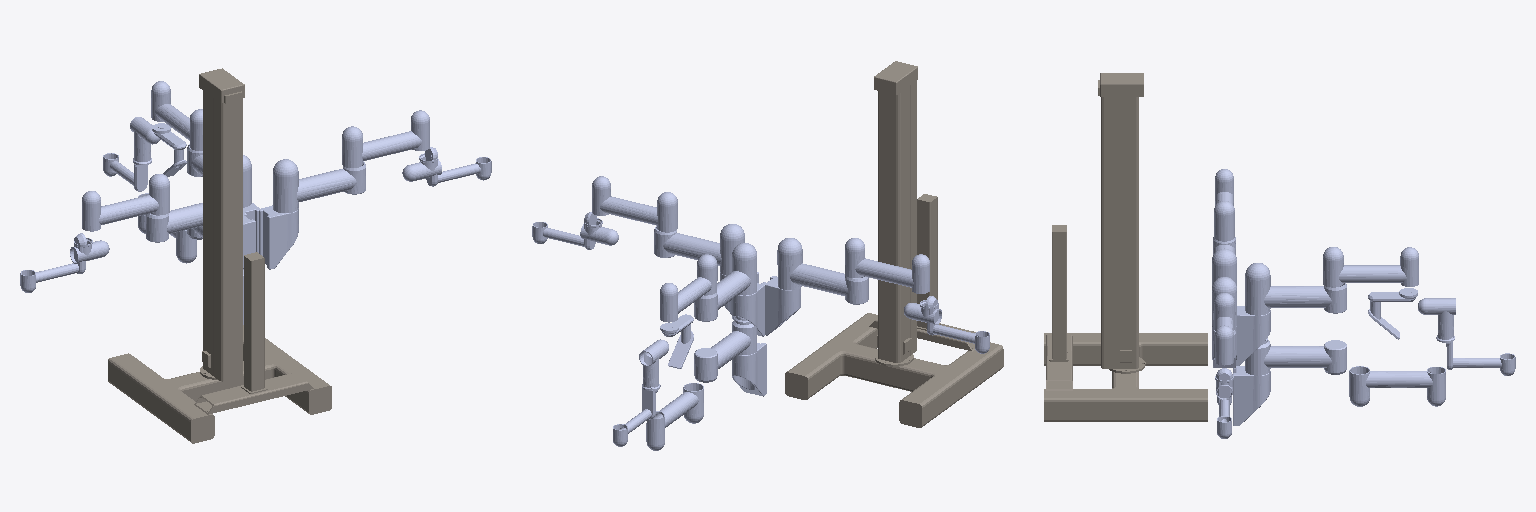
--- Facts derived from the render (not from the file) ---
The picture shows the robot from 3 angles, left to right: view 1: azimuth 30°, elevation 25°; view 2: azimuth 150°, elevation 25°; view 3: azimuth 270°, elevation 25°; orthographic projection.
Model Cart with 20 links and 19 joints (15 continuous, 4 prismatic), rooted at base_link, posed every joint at zero.
Links seen in each view (by area): view 1: base_link, C_A1_L1, C_A4_L2, C_A1_L2, C_A1_L0, C_A2_L2, C_A4_L1, C_A4_L4, C_A1_L4, C_A3_L3, C_A3_L4, C_A2_L1 (+4 smaller); view 2: base_link, C_A4_L1, C_A1_L2, C_A4_L2, C_A1_L1, C_A2_L1, C_A3_L1, C_A2_L2, C_A3_L2, C_A3_L0, C_A4_L0, C_A2_L0 (+7 smaller); view 3: base_link, C_A2_L1, C_A3_L1, C_A2_L2, C_A3_L2, C_A3_L0, C_A1_L2, C_A4_L2, C_A2_L0, C_A3_L3, C_A3_L4, C_A4_L1 (+3 smaller).
Boxes of the visible links, x1,y1,x2,y2 form: base_link: (108, 68, 331, 443); C_A1_L1: (273, 159, 365, 212); C_A4_L2: (82, 174, 169, 231); C_A1_L2: (342, 110, 429, 167); C_A1_L0: (259, 205, 298, 269); C_A2_L2: (151, 81, 202, 150); C_A4_L1: (146, 203, 202, 242); C_A4_L4: (20, 233, 86, 292); C_A1_L4: (425, 147, 491, 186); C_A3_L3: (130, 117, 160, 164); C_A3_L4: (103, 153, 147, 191); C_A2_L1: (187, 144, 251, 207); base_link: (785, 61, 1003, 427); C_A4_L1: (777, 238, 868, 304); C_A1_L2: (592, 176, 677, 232); C_A4_L2: (845, 238, 929, 293); C_A1_L1: (654, 224, 744, 275); C_A2_L1: (694, 243, 756, 321); C_A3_L1: (694, 316, 756, 382); C_A2_L2: (660, 254, 717, 322); C_A3_L2: (646, 383, 703, 450); C_A3_L0: (732, 343, 766, 396); C_A4_L0: (762, 276, 800, 335); C_A2_L0: (732, 283, 764, 336); base_link: (1044, 73, 1207, 421); C_A2_L1: (1245, 263, 1346, 315); C_A3_L1: (1245, 338, 1346, 375); C_A2_L2: (1323, 247, 1418, 287); C_A3_L2: (1349, 366, 1445, 406); C_A3_L0: (1233, 366, 1270, 425); C_A1_L2: (1214, 293, 1234, 365); C_A4_L2: (1214, 169, 1234, 241); C_A2_L0: (1236, 306, 1270, 365); C_A3_L3: (1418, 298, 1455, 342); C_A3_L4: (1446, 337, 1515, 375); C_A4_L1: (1212, 237, 1236, 285).
Bounding box of the posed robot: 3.03 × 2.7 × 1.97 m (x, y, z).
20 mesh visuals loaded from 20 distinct referenced files (20 binary STL).

URDF robot description (Cart):
<robot
  name="Cart">
  <link
    name="base_link">
    <inertial>
      <origin
        xyz="3.41426483252416E-07 -0.253032953037324 0.552457766148795"
        rpy="0 0 0" />
      <mass
        value="251.331338880703" />
      <inertia
        ixx="116.092010218379"
        ixy="-5.29791887809032E-06"
        ixz="3.94601866077709E-05"
        iyy="116.786187825287"
        iyz="-2.79449977491915"
        izz="20.7204503058012" />
    </inertial>
    <visual>
      <origin
        xyz="0 0 0"
        rpy="0 0 0" />
      <geometry>
        <mesh
          filename="package://Cart/meshes/base_link.stl" />
      </geometry>
      <material
        name="">
        <color
          rgba="0.647058823529412 0.619607843137255 0.588235294117647 1" />
      </material>
    </visual>
    <collision>
      <origin
        xyz="0 0 0"
        rpy="0 0 0" />
      <geometry>
        <mesh
          filename="package://Cart/meshes/base_link.stl" />
      </geometry>
    </collision>
  </link>
  <link
    name="C_A1_L0">
    <inertial>
      <origin
        xyz="0.0568399826690053 4.20186586191917E-07 0.148466700879736"
        rpy="0 0 0" />
      <mass
        value="8.19045158700103" />
      <inertia
        ixx="0.0849399138017183"
        ixy="-2.6241532757594E-07"
        ixz="-0.00950408519583723"
        iyy="0.0840388037894648"
        iyz="-7.34496732080392E-07"
        izz="0.0337578517914833" />
    </inertial>
    <visual>
      <origin
        xyz="0 0 0"
        rpy="0 0 0" />
      <geometry>
        <mesh
          filename="package://Cart/meshes/C_A1_L0.stl" />
      </geometry>
      <material
        name="">
        <color
          rgba="0.792156862745098 0.819607843137255 0.933333333333333 1" />
      </material>
    </visual>
    <collision>
      <origin
        xyz="0 0 0"
        rpy="0 0 0" />
      <geometry>
        <mesh
          filename="package://Cart/meshes/C_A1_L0.stl" />
      </geometry>
    </collision>
  </link>
  <joint
    name="C_A1_L0"
    type="prismatic">
    <origin
      xyz="0.1912 -0.191199999999999 0.761099999999999"
      rpy="-3.14159265358979 0 3.14159265358979" />
    <parent
      link="base_link" />
    <child
      link="C_A1_L0" />
    <axis
      xyz="0 0 -1" />
    <limit
      lower="0"
      upper="1.2223"
      effort="50"
      velocity="50" />
  </joint>
  <link
    name="C_A1_L1">
    <inertial>
      <origin
        xyz="-2.39046560346345E-06 0.181423473764042 -0.108873680906329"
        rpy="0 0 0" />
      <mass
        value="4.285154468433" />
      <inertia
        ixx="0.165298975805321"
        ixy="8.05521101705082E-07"
        ixz="1.12357011273003E-07"
        iyy="0.0318879130435778"
        iyz="-0.0216382058279061"
        izz="0.151812373014208" />
    </inertial>
    <visual>
      <origin
        xyz="0 0 0"
        rpy="0 0 0" />
      <geometry>
        <mesh
          filename="package://Cart/meshes/C_A1_L1.stl" />
      </geometry>
      <material
        name="">
        <color
          rgba="0.792156862745098 0.819607843137255 0.933333333333333 1" />
      </material>
    </visual>
    <collision>
      <origin
        xyz="0 0 0"
        rpy="0 0 0" />
      <geometry>
        <mesh
          filename="package://Cart/meshes/C_A1_L1.stl" />
      </geometry>
    </collision>
  </link>
  <joint
    name="C_A1_L1"
    type="continuous">
    <origin
      xyz="0 0 0"
      rpy="0 0 1.5707963267949" />
    <parent
      link="C_A1_L0" />
    <child
      link="C_A1_L1" />
    <axis
      xyz="0 0 -1" />
  </joint>
  <link
    name="C_A1_L2">
    <inertial>
      <origin
        xyz="0.208919873467034 -5.98681643881882E-06 0.0907666144838899"
        rpy="0 0 0" />
      <mass
        value="3.37391295638727" />
      <inertia
        ixx="0.0170495937307872"
        ixy="1.14494065864692E-06"
        ixz="0.0010255647636027"
        iyy="0.12264804166409"
        iyz="-5.47956889127492E-07"
        izz="0.114779656818464" />
    </inertial>
    <visual>
      <origin
        xyz="0 0 0"
        rpy="0 0 0" />
      <geometry>
        <mesh
          filename="package://Cart/meshes/C_A1_L2.stl" />
      </geometry>
      <material
        name="">
        <color
          rgba="0.792156862745098 0.819607843137255 0.933333333333333 1" />
      </material>
    </visual>
    <collision>
      <origin
        xyz="0 0 0"
        rpy="0 0 0" />
      <geometry>
        <mesh
          filename="package://Cart/meshes/C_A1_L2.stl" />
      </geometry>
    </collision>
  </link>
  <joint
    name="C_A1_L2"
    type="continuous">
    <origin
      xyz="0 0.4318 -0.17125"
      rpy="3.14159265358979 0 1.5707963267949" />
    <parent
      link="C_A1_L1" />
    <child
      link="C_A1_L2" />
    <axis
      xyz="0 0 1" />
  </joint>
  <link
    name="C_A1_L3">
    <inertial>
      <origin
        xyz="-7.80457090510112E-07 -0.00585624023297915 -0.105796634063268"
        rpy="0 0 0" />
      <mass
        value="0.955411449199706" />
      <inertia
        ixx="0.00502239974642487"
        ixy="1.37715041231818E-08"
        ixz="6.06906568619737E-08"
        iyy="0.00485366592677737"
        iyz="0.000256157144769027"
        izz="0.00220603249495337" />
    </inertial>
    <visual>
      <origin
        xyz="0 0 0"
        rpy="0 0 0" />
      <geometry>
        <mesh
          filename="package://Cart/meshes/C_A1_L3.stl" />
      </geometry>
      <material
        name="">
        <color
          rgba="0.792156862745098 0.819607843137255 0.933333333333333 1" />
      </material>
    </visual>
    <collision>
      <origin
        xyz="0 0 0"
        rpy="0 0 0" />
      <geometry>
        <mesh
          filename="package://Cart/meshes/C_A1_L3.stl" />
      </geometry>
    </collision>
  </link>
  <joint
    name="C_A1_L3"
    type="continuous">
    <origin
      xyz="0.4918 0 -0.0730499999999998"
      rpy="-1.5707963267949 0 -1.5707963267949" />
    <parent
      link="C_A1_L2" />
    <child
      link="C_A1_L3" />
    <axis
      xyz="0 -1 0" />
  </joint>
  <link
    name="C_A1_L4">
    <inertial>
      <origin
        xyz="4.48121566520854E-08 0.13368960726033 0.106531287729481"
        rpy="0 0 0" />
      <mass
        value="3.17073043883153" />
      <inertia
        ixx="0.081480486654553"
        ixy="-2.27200178709777E-08"
        ixz="-1.1533276230525E-09"
        iyy="0.0179293368302569"
        iyz="-0.0218807182526152"
        izz="0.0668098507562024" />
    </inertial>
    <visual>
      <origin
        xyz="0 0 0"
        rpy="0 0 0" />
      <geometry>
        <mesh
          filename="package://Cart/meshes/C_A1_L4.stl" />
      </geometry>
      <material
        name="">
        <color
          rgba="0.792156862745098 0.819607843137255 0.933333333333333 1" />
      </material>
    </visual>
    <collision>
      <origin
        xyz="0 0 0"
        rpy="0 0 0" />
      <geometry>
        <mesh
          filename="package://Cart/meshes/C_A1_L4.stl" />
      </geometry>
    </collision>
  </link>
  <joint
    name="C_A1_L4"
    type="continuous">
    <origin
      xyz="0 0 0.000999999999999668"
      rpy="1.5707963267949 0 3.14159265358979" />
    <parent
      link="C_A1_L3" />
    <child
      link="C_A1_L4" />
    <axis
      xyz="0 1 0" />
  </joint>
  <link
    name="C_A2_L0">
    <inertial>
      <origin
        xyz="0.0568399826690054 4.20186586247429E-07 0.148466700879736"
        rpy="0 0 0" />
      <mass
        value="8.19045158700106" />
      <inertia
        ixx="0.0849399138017188"
        ixy="-2.62415327590344E-07"
        ixz="-0.00950408519583734"
        iyy="0.0840388037894653"
        iyz="-7.34496732014215E-07"
        izz="0.0337578517914834" />
    </inertial>
    <visual>
      <origin
        xyz="0 0 0"
        rpy="0 0 0" />
      <geometry>
        <mesh
          filename="package://Cart/meshes/C_A2_L0.stl" />
      </geometry>
      <material
        name="">
        <color
          rgba="0.792156862745098 0.819607843137255 0.933333333333333 1" />
      </material>
    </visual>
    <collision>
      <origin
        xyz="0 0 0"
        rpy="0 0 0" />
      <geometry>
        <mesh
          filename="package://Cart/meshes/C_A2_L0.stl" />
      </geometry>
    </collision>
  </link>
  <joint
    name="C_A2_L0"
    type="prismatic">
    <origin
      xyz="0 0 0.7611"
      rpy="3.14159265358979 -3.41872220593534E-16 -1.5707963267949" />
    <parent
      link="base_link" />
    <child
      link="C_A2_L0" />
    <axis
      xyz="0 0 -1" />
    <limit
      lower="0"
      upper="1.2223"
      effort="50"
      velocity="50" />
  </joint>
  <link
    name="C_A2_L1">
    <inertial>
      <origin
        xyz="-2.39046560315814E-06 -0.181423473764043 0.108873680906329"
        rpy="0 0 0" />
      <mass
        value="4.28515446843305" />
      <inertia
        ixx="0.165298975805323"
        ixy="-8.05521101721203E-07"
        ixz="-1.12357011263569E-07"
        iyy="0.0318879130435779"
        iyz="-0.0216382058279063"
        izz="0.151812373014209" />
    </inertial>
    <visual>
      <origin
        xyz="0 0 0"
        rpy="0 0 0" />
      <geometry>
        <mesh
          filename="package://Cart/meshes/C_A2_L1.stl" />
      </geometry>
      <material
        name="">
        <color
          rgba="0.792156862745098 0.819607843137255 0.933333333333333 1" />
      </material>
    </visual>
    <collision>
      <origin
        xyz="0 0 0"
        rpy="0 0 0" />
      <geometry>
        <mesh
          filename="package://Cart/meshes/C_A2_L1.stl" />
      </geometry>
    </collision>
  </link>
  <joint
    name="C_A2_L1"
    type="continuous">
    <origin
      xyz="0 0 0"
      rpy="3.14159265358979 0 1.5707963267949" />
    <parent
      link="C_A2_L0" />
    <child
      link="C_A2_L1" />
    <axis
      xyz="0 0 1" />
  </joint>
  <link
    name="C_A2_L2">
    <inertial>
      <origin
        xyz="0.208919873467034 5.98681643856902E-06 -0.0907666144838897"
        rpy="0 0 0" />
      <mass
        value="3.37391295638731" />
      <inertia
        ixx="0.0170495937307872"
        ixy="-1.14494065873328E-06"
        ixz="-0.00102556476360276"
        iyy="0.122648041664091"
        iyz="-5.47956889142899E-07"
        izz="0.114779656818464" />
    </inertial>
    <visual>
      <origin
        xyz="0 0 0"
        rpy="0 0 0" />
      <geometry>
        <mesh
          filename="package://Cart/meshes/C_A2_L2.stl" />
      </geometry>
      <material
        name="">
        <color
          rgba="0.792156862745098 0.819607843137255 0.933333333333333 1" />
      </material>
    </visual>
    <collision>
      <origin
        xyz="0 0 0"
        rpy="0 0 0" />
      <geometry>
        <mesh
          filename="package://Cart/meshes/C_A2_L2.stl" />
      </geometry>
    </collision>
  </link>
  <joint
    name="C_A2_L2"
    type="continuous">
    <origin
      xyz="0 -0.4318 0.17125"
      rpy="3.14159265358979 0 -1.5707963267949" />
    <parent
      link="C_A2_L1" />
    <child
      link="C_A2_L2" />
    <axis
      xyz="0 0 -1" />
  </joint>
  <link
    name="C_A2_L3">
    <inertial>
      <origin
        xyz="0.101750929950522 0.0259124054818911 -9.32699600608711E-08"
        rpy="0 0 0" />
      <mass
        value="3.45916152951232" />
      <inertia
        ixx="0.0229632930111855"
        ixy="-0.00595610077478555"
        ixz="3.34205098594432E-08"
        iyy="0.0229722469896469"
        iyz="2.42316431802758E-08"
        izz="0.0422114398260218" />
    </inertial>
    <visual>
      <origin
        xyz="0 0 0"
        rpy="0 0 0" />
      <geometry>
        <mesh
          filename="package://Cart/meshes/C_A2_L3.stl" />
      </geometry>
      <material
        name="">
        <color
          rgba="0.792156862745098 0.819607843137255 0.933333333333333 1" />
      </material>
    </visual>
    <collision>
      <origin
        xyz="0 0 0"
        rpy="0 0 0" />
      <geometry>
        <mesh
          filename="package://Cart/meshes/C_A2_L3.stl" />
      </geometry>
    </collision>
  </link>
  <joint
    name="C_A2_L3"
    type="continuous">
    <origin
      xyz="0.4318 0 0.052"
      rpy="1.5707963267949 0 3.14159265358979" />
    <parent
      link="C_A2_L2" />
    <child
      link="C_A2_L3" />
    <axis
      xyz="0 -1 0" />
  </joint>
  <link
    name="C_A4_L0">
    <inertial>
      <origin
        xyz="0.056839982669005 4.20186585969873E-07 0.148466700879736"
        rpy="0 0 0" />
      <mass
        value="8.19045158700109" />
      <inertia
        ixx="0.0849399138017188"
        ixy="-2.62415327597094E-07"
        ixz="-0.00950408519583708"
        iyy="0.0840388037894655"
        iyz="-7.34496732044263E-07"
        izz="0.0337578517914837" />
    </inertial>
    <visual>
      <origin
        xyz="0 0 0"
        rpy="0 0 0" />
      <geometry>
        <mesh
          filename="package://Cart/meshes/C_A4_L0.stl" />
      </geometry>
      <material
        name="">
        <color
          rgba="0.792156862745098 0.819607843137255 0.933333333333333 1" />
      </material>
    </visual>
    <collision>
      <origin
        xyz="0 0 0"
        rpy="0 0 0" />
      <geometry>
        <mesh
          filename="package://Cart/meshes/C_A4_L0.stl" />
      </geometry>
    </collision>
  </link>
  <joint
    name="C_A4_L0"
    type="prismatic">
    <origin
      xyz="-0.191199999999999 -0.1912 0.761099999999999"
      rpy="3.14159265358979 0 0" />
    <parent
      link="base_link" />
    <child
      link="C_A4_L0" />
    <axis
      xyz="0 0 -1" />
    <limit
      lower="0"
      upper="1.2223"
      effort="50"
      velocity="50" />
  </joint>
  <link
    name="C_A4_L1">
    <inertial>
      <origin
        xyz="-2.39046560301936E-06 0.181423473764042 -0.10887368090633"
        rpy="0 0 0" />
      <mass
        value="4.28515446843304" />
      <inertia
        ixx="0.165298975805321"
        ixy="8.05521101584607E-07"
        ixz="1.12357011233411E-07"
        iyy="0.0318879130435778"
        iyz="-0.0216382058279061"
        izz="0.151812373014208" />
    </inertial>
    <visual>
      <origin
        xyz="0 0 0"
        rpy="0 0 0" />
      <geometry>
        <mesh
          filename="package://Cart/meshes/C_A4_L1.stl" />
      </geometry>
      <material
        name="">
        <color
          rgba="0.792156862745098 0.819607843137255 0.933333333333333 1" />
      </material>
    </visual>
    <collision>
      <origin
        xyz="0 0 0"
        rpy="0 0 0" />
      <geometry>
        <mesh
          filename="package://Cart/meshes/C_A4_L1.stl" />
      </geometry>
    </collision>
  </link>
  <joint
    name="C_A4_L1"
    type="continuous">
    <origin
      xyz="0 0 0"
      rpy="0 0 1.5707963267949" />
    <parent
      link="C_A4_L0" />
    <child
      link="C_A4_L1" />
    <axis
      xyz="0 0 -1" />
  </joint>
  <link
    name="C_A4_L2">
    <inertial>
      <origin
        xyz="0.208919873467034 -5.98681643837473E-06 0.0907666144838897"
        rpy="0 0 0" />
      <mass
        value="3.37391295638733" />
      <inertia
        ixx="0.0170495937307872"
        ixy="1.14494065865667E-06"
        ixz="0.00102556476360271"
        iyy="0.122648041664091"
        iyz="-5.47956889106164E-07"
        izz="0.114779656818464" />
    </inertial>
    <visual>
      <origin
        xyz="0 0 0"
        rpy="0 0 0" />
      <geometry>
        <mesh
          filename="package://Cart/meshes/C_A4_L2.stl" />
      </geometry>
      <material
        name="">
        <color
          rgba="0.792156862745098 0.819607843137255 0.933333333333333 1" />
      </material>
    </visual>
    <collision>
      <origin
        xyz="0 0 0"
        rpy="0 0 0" />
      <geometry>
        <mesh
          filename="package://Cart/meshes/C_A4_L2.stl" />
      </geometry>
    </collision>
  </link>
  <joint
    name="C_A4_L2"
    type="continuous">
    <origin
      xyz="0 0.4318 -0.171250000000001"
      rpy="3.14159265358979 0 1.5707963267949" />
    <parent
      link="C_A4_L1" />
    <child
      link="C_A4_L2" />
    <axis
      xyz="0 0 1" />
  </joint>
  <link
    name="C_A4_L3">
    <inertial>
      <origin
        xyz="-7.80457090066022E-07 0.00585624023297915 0.105796634063267"
        rpy="0 0 0" />
      <mass
        value="0.955411449199708" />
      <inertia
        ixx="0.00502239974642493"
        ixy="-1.37715041295868E-08"
        ixz="-6.0690656865772E-08"
        iyy="0.0048536659267774"
        iyz="0.000256157144769039"
        izz="0.00220603249495337" />
    </inertial>
    <visual>
      <origin
        xyz="0 0 0"
        rpy="0 0 0" />
      <geometry>
        <mesh
          filename="package://Cart/meshes/C_A4_L3.stl" />
      </geometry>
      <material
        name="">
        <color
          rgba="0.792156862745098 0.819607843137255 0.933333333333333 1" />
      </material>
    </visual>
    <collision>
      <origin
        xyz="0 0 0"
        rpy="0 0 0" />
      <geometry>
        <mesh
          filename="package://Cart/meshes/C_A4_L3.stl" />
      </geometry>
    </collision>
  </link>
  <joint
    name="C_A4_L3"
    type="continuous">
    <origin
      xyz="0.4918 0 -0.0730500000000005"
      rpy="1.5707963267949 0 -1.5707963267949" />
    <parent
      link="C_A4_L2" />
    <child
      link="C_A4_L3" />
    <axis
      xyz="0 1 0" />
  </joint>
  <link
    name="C_A4_L4">
    <inertial>
      <origin
        xyz="4.481215687413E-08 0.13368960726033 0.106531287729481"
        rpy="0 0 0" />
      <mass
        value="3.17073043883155" />
      <inertia
        ixx="0.0814804866545533"
        ixy="-2.27200179111935E-08"
        ixz="-1.15332763365204E-09"
        iyy="0.0179293368302569"
        iyz="-0.0218807182526152"
        izz="0.0668098507562027" />
    </inertial>
    <visual>
      <origin
        xyz="0 0 0"
        rpy="0 0 0" />
      <geometry>
        <mesh
          filename="package://Cart/meshes/C_A4_L4.stl" />
      </geometry>
      <material
        name="">
        <color
          rgba="0.792156862745098 0.819607843137255 0.933333333333333 1" />
      </material>
    </visual>
    <collision>
      <origin
        xyz="0 0 0"
        rpy="0 0 0" />
      <geometry>
        <mesh
          filename="package://Cart/meshes/C_A4_L4.stl" />
      </geometry>
    </collision>
  </link>
  <joint
    name="C_A4_L4"
    type="continuous">
    <origin
      xyz="0 0 -0.001"
      rpy="-1.5707963267949 0 3.14159265358979" />
    <parent
      link="C_A4_L3" />
    <child
      link="C_A4_L4" />
    <axis
      xyz="0 -1 0" />
  </joint>
  <link
    name="C_A3_L0">
    <inertial>
      <origin
        xyz="0.0602109648274594 -2.92606541635321E-07 0.113199880625867"
        rpy="0 0 0" />
      <mass
        value="6.04817279598793" />
      <inertia
        ixx="0.042751844253079"
        ixy="-6.06009647276559E-07"
        ixz="-0.00566678005551946"
        iyy="0.0405000183180794"
        iyz="-5.5995057196767E-07"
        izz="0.023227300149106" />
    </inertial>
    <visual>
      <origin
        xyz="0 0 0"
        rpy="0 0 0" />
      <geometry>
        <mesh
          filename="package://Cart/meshes/C_A3_L0.stl" />
      </geometry>
      <material
        name="">
        <color
          rgba="0.792156862745098 0.819607843137255 0.933333333333333 1" />
      </material>
    </visual>
    <collision>
      <origin
        xyz="0 0 0"
        rpy="0 0 0" />
      <geometry>
        <mesh
          filename="package://Cart/meshes/C_A3_L0.stl" />
      </geometry>
    </collision>
  </link>
  <joint
    name="C_A3_L0"
    type="prismatic">
    <origin
      xyz="0 0 0.3813"
      rpy="3.14159265358979 -3.41872220593534E-16 -1.5707963267949" />
    <parent
      link="base_link" />
    <child
      link="C_A3_L0" />
    <axis
      xyz="0 0 -1" />
    <limit
      lower="0"
      upper="1.2223"
      effort="50"
      velocity="50" />
  </joint>
  <link
    name="C_A3_L1">
    <inertial>
      <origin
        xyz="-8.83879091112538E-07 -0.269226910798469 0.0974465195036079"
        rpy="0 0 0" />
      <mass
        value="9.2143433650029" />
      <inertia
        ixx="0.512543337774863"
        ixy="-1.1285325073599E-06"
        ixz="-1.98944489031987E-07"
        iyy="0.046675533244729"
        iyz="-0.022324667193201"
        izz="0.500775909008121" />
    </inertial>
    <visual>
      <origin
        xyz="0 0 0"
        rpy="0 0 0" />
      <geometry>
        <mesh
          filename="package://Cart/meshes/C_A3_L1.stl" />
      </geometry>
      <material
        name="">
        <color
          rgba="0.792156862745098 0.819607843137255 0.933333333333333 1" />
      </material>
    </visual>
    <collision>
      <origin
        xyz="0 0 0"
        rpy="0 0 0" />
      <geometry>
        <mesh
          filename="package://Cart/meshes/C_A3_L1.stl" />
      </geometry>
    </collision>
  </link>
  <joint
    name="C_A3_L1"
    type="continuous">
    <origin
      xyz="0 0 0"
      rpy="3.14159265358979 0 1.5707963267949" />
    <parent
      link="C_A3_L0" />
    <child
      link="C_A3_L1" />
    <axis
      xyz="0 0 1" />
  </joint>
  <link
    name="C_A3_L2">
    <inertial>
      <origin
        xyz="0.208919873467035 -5.98681643829146E-06 0.0907666144838893"
        rpy="0 0 0" />
      <mass
        value="3.37391295638732" />
      <inertia
        ixx="0.0170495937307872"
        ixy="1.14494065871982E-06"
        ixz="0.00102556476360267"
        iyy="0.122648041664091"
        iyz="-5.47956889132769E-07"
        izz="0.114779656818464" />
    </inertial>
    <visual>
      <origin
        xyz="0 0 0"
        rpy="0 0 0" />
      <geometry>
        <mesh
          filename="package://Cart/meshes/C_A3_L2.stl" />
      </geometry>
      <material
        name="">
        <color
          rgba="0.792156862745098 0.819607843137255 0.933333333333333 1" />
      </material>
    </visual>
    <collision>
      <origin
        xyz="0 0 0"
        rpy="0 0 0" />
      <geometry>
        <mesh
          filename="package://Cart/meshes/C_A3_L2.stl" />
      </geometry>
    </collision>
  </link>
  <joint
    name="C_A3_L2"
    type="continuous">
    <origin
      xyz="0 -0.5842 -0.000249999999999639"
      rpy="3.14159265358979 0 -1.5707963267949" />
    <parent
      link="C_A3_L1" />
    <child
      link="C_A3_L2" />
    <axis
      xyz="0 0 -1" />
  </joint>
  <link
    name="C_A3_L3">
    <inertial>
      <origin
        xyz="-5.52738318115864E-07 0.0525803940330202 0.0899587011265839"
        rpy="0 0 0" />
      <mass
        value="1.46016558605931" />
      <inertia
        ixx="0.0128891233532759"
        ixy="-1.05508483885794E-07"
        ixz="2.6823702509199E-08"
        iyy="0.00658384974944233"
        iyz="0.00230089243299317"
        izz="0.00938095830526966" />
    </inertial>
    <visual>
      <origin
        xyz="0 0 0"
        rpy="0 0 0" />
      <geometry>
        <mesh
          filename="package://Cart/meshes/C_A3_L3.stl" />
      </geometry>
      <material
        name="">
        <color
          rgba="0.792156862745098 0.819607843137255 0.933333333333333 1" />
      </material>
    </visual>
    <collision>
      <origin
        xyz="0 0 0"
        rpy="0 0 0" />
      <geometry>
        <mesh
          filename="package://Cart/meshes/C_A3_L3.stl" />
      </geometry>
    </collision>
  </link>
  <joint
    name="C_A3_L3"
    type="continuous">
    <origin
      xyz="0.491800000000001 0 -0.199949999999999"
      rpy="1.5707963267949 0 -1.5707963267949" />
    <parent
      link="C_A3_L2" />
    <child
      link="C_A3_L3" />
    <axis
      xyz="0 -1 0" />
  </joint>
  <link
    name="C_A3_L4">
    <inertial>
      <origin
        xyz="4.48121568186188E-08 0.133689607260329 0.106531287729481"
        rpy="0 0 0" />
      <mass
        value="3.17073043883155" />
      <inertia
        ixx="0.0814804866545532"
        ixy="-2.2720017894773E-08"
        ixz="-1.15332764204673E-09"
        iyy="0.0179293368302569"
        iyz="-0.0218807182526152"
        izz="0.0668098507562026" />
    </inertial>
    <visual>
      <origin
        xyz="0 0 0"
        rpy="0 0 0" />
      <geometry>
        <mesh
          filename="package://Cart/meshes/C_A3_L4.stl" />
      </geometry>
      <material
        name="">
        <color
          rgba="0.792156862745098 0.819607843137255 0.933333333333333 1" />
      </material>
    </visual>
    <collision>
      <origin
        xyz="0 0 0"
        rpy="0 0 0" />
      <geometry>
        <mesh
          filename="package://Cart/meshes/C_A3_L4.stl" />
      </geometry>
    </collision>
  </link>
  <joint
    name="C_A3_L4"
    type="continuous">
    <origin
      xyz="0 0 -0.001"
      rpy="-1.5707963267949 0 0" />
    <parent
      link="C_A3_L3" />
    <child
      link="C_A3_L4" />
    <axis
      xyz="0 -1 0" />
  </joint>
</robot>
